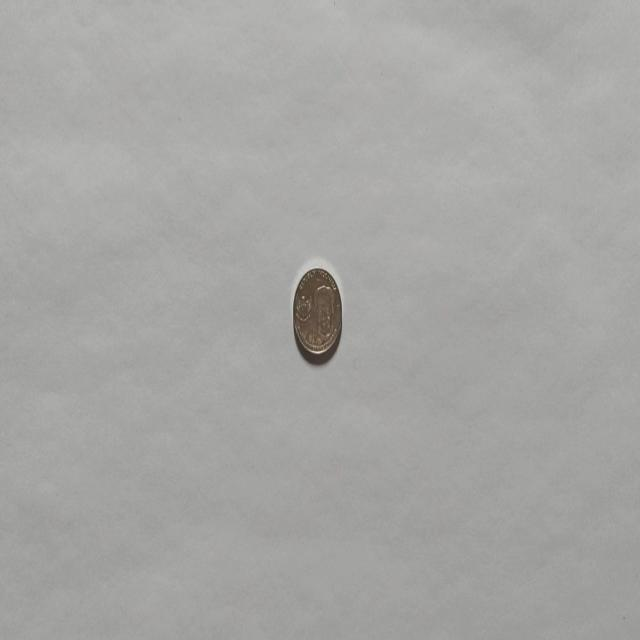seratus rupiah: (292, 265, 342, 358)
